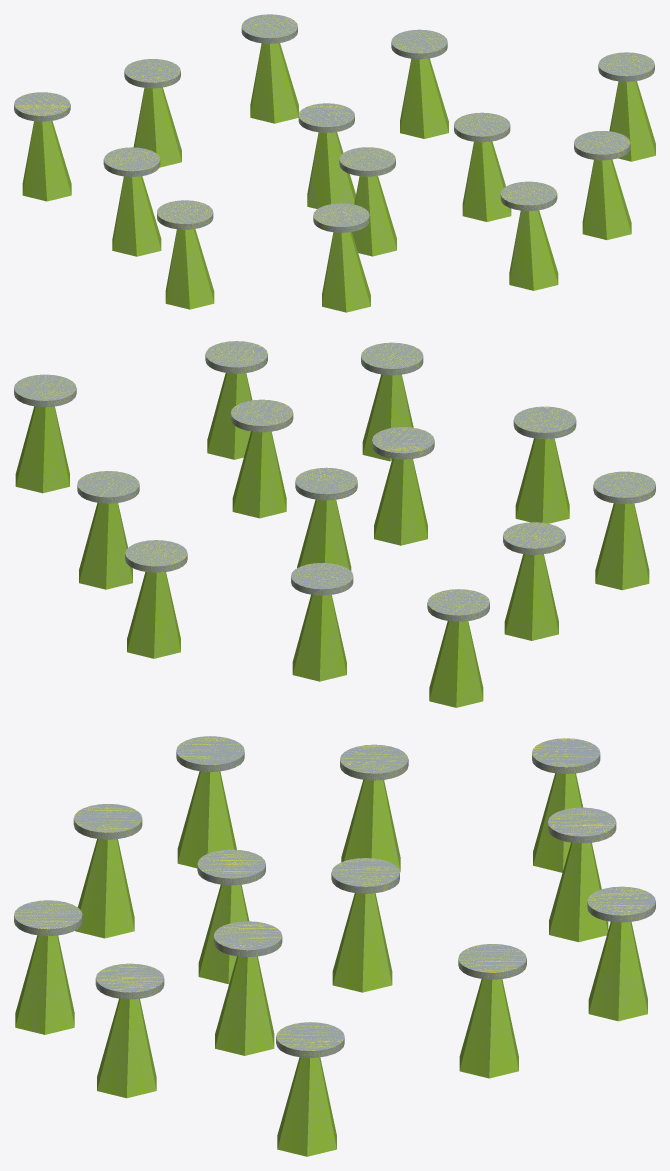
The model's file is Meadow.fbx.
3 views of the same model, one above another, from view 1: azimuth 30°, elevation 25°; view 2: azimuth 150°, elevation 25°; view 3: azimuth 270°, elevation 25° (orthographic). The views are drawn at different scales.
Parts seen in each view (by area): view 1: Model; view 2: Model; view 3: Model.
Part boxes in pixels (x1=…): Model: x1=14, y1=14, x2=655, y2=312; Model: x1=14, y1=341, x2=655, y2=707; Model: x1=14, y1=736, x2=655, y2=1156.
Bounding box in the file's own units: 1.97 × 0.3 × 1.68.
